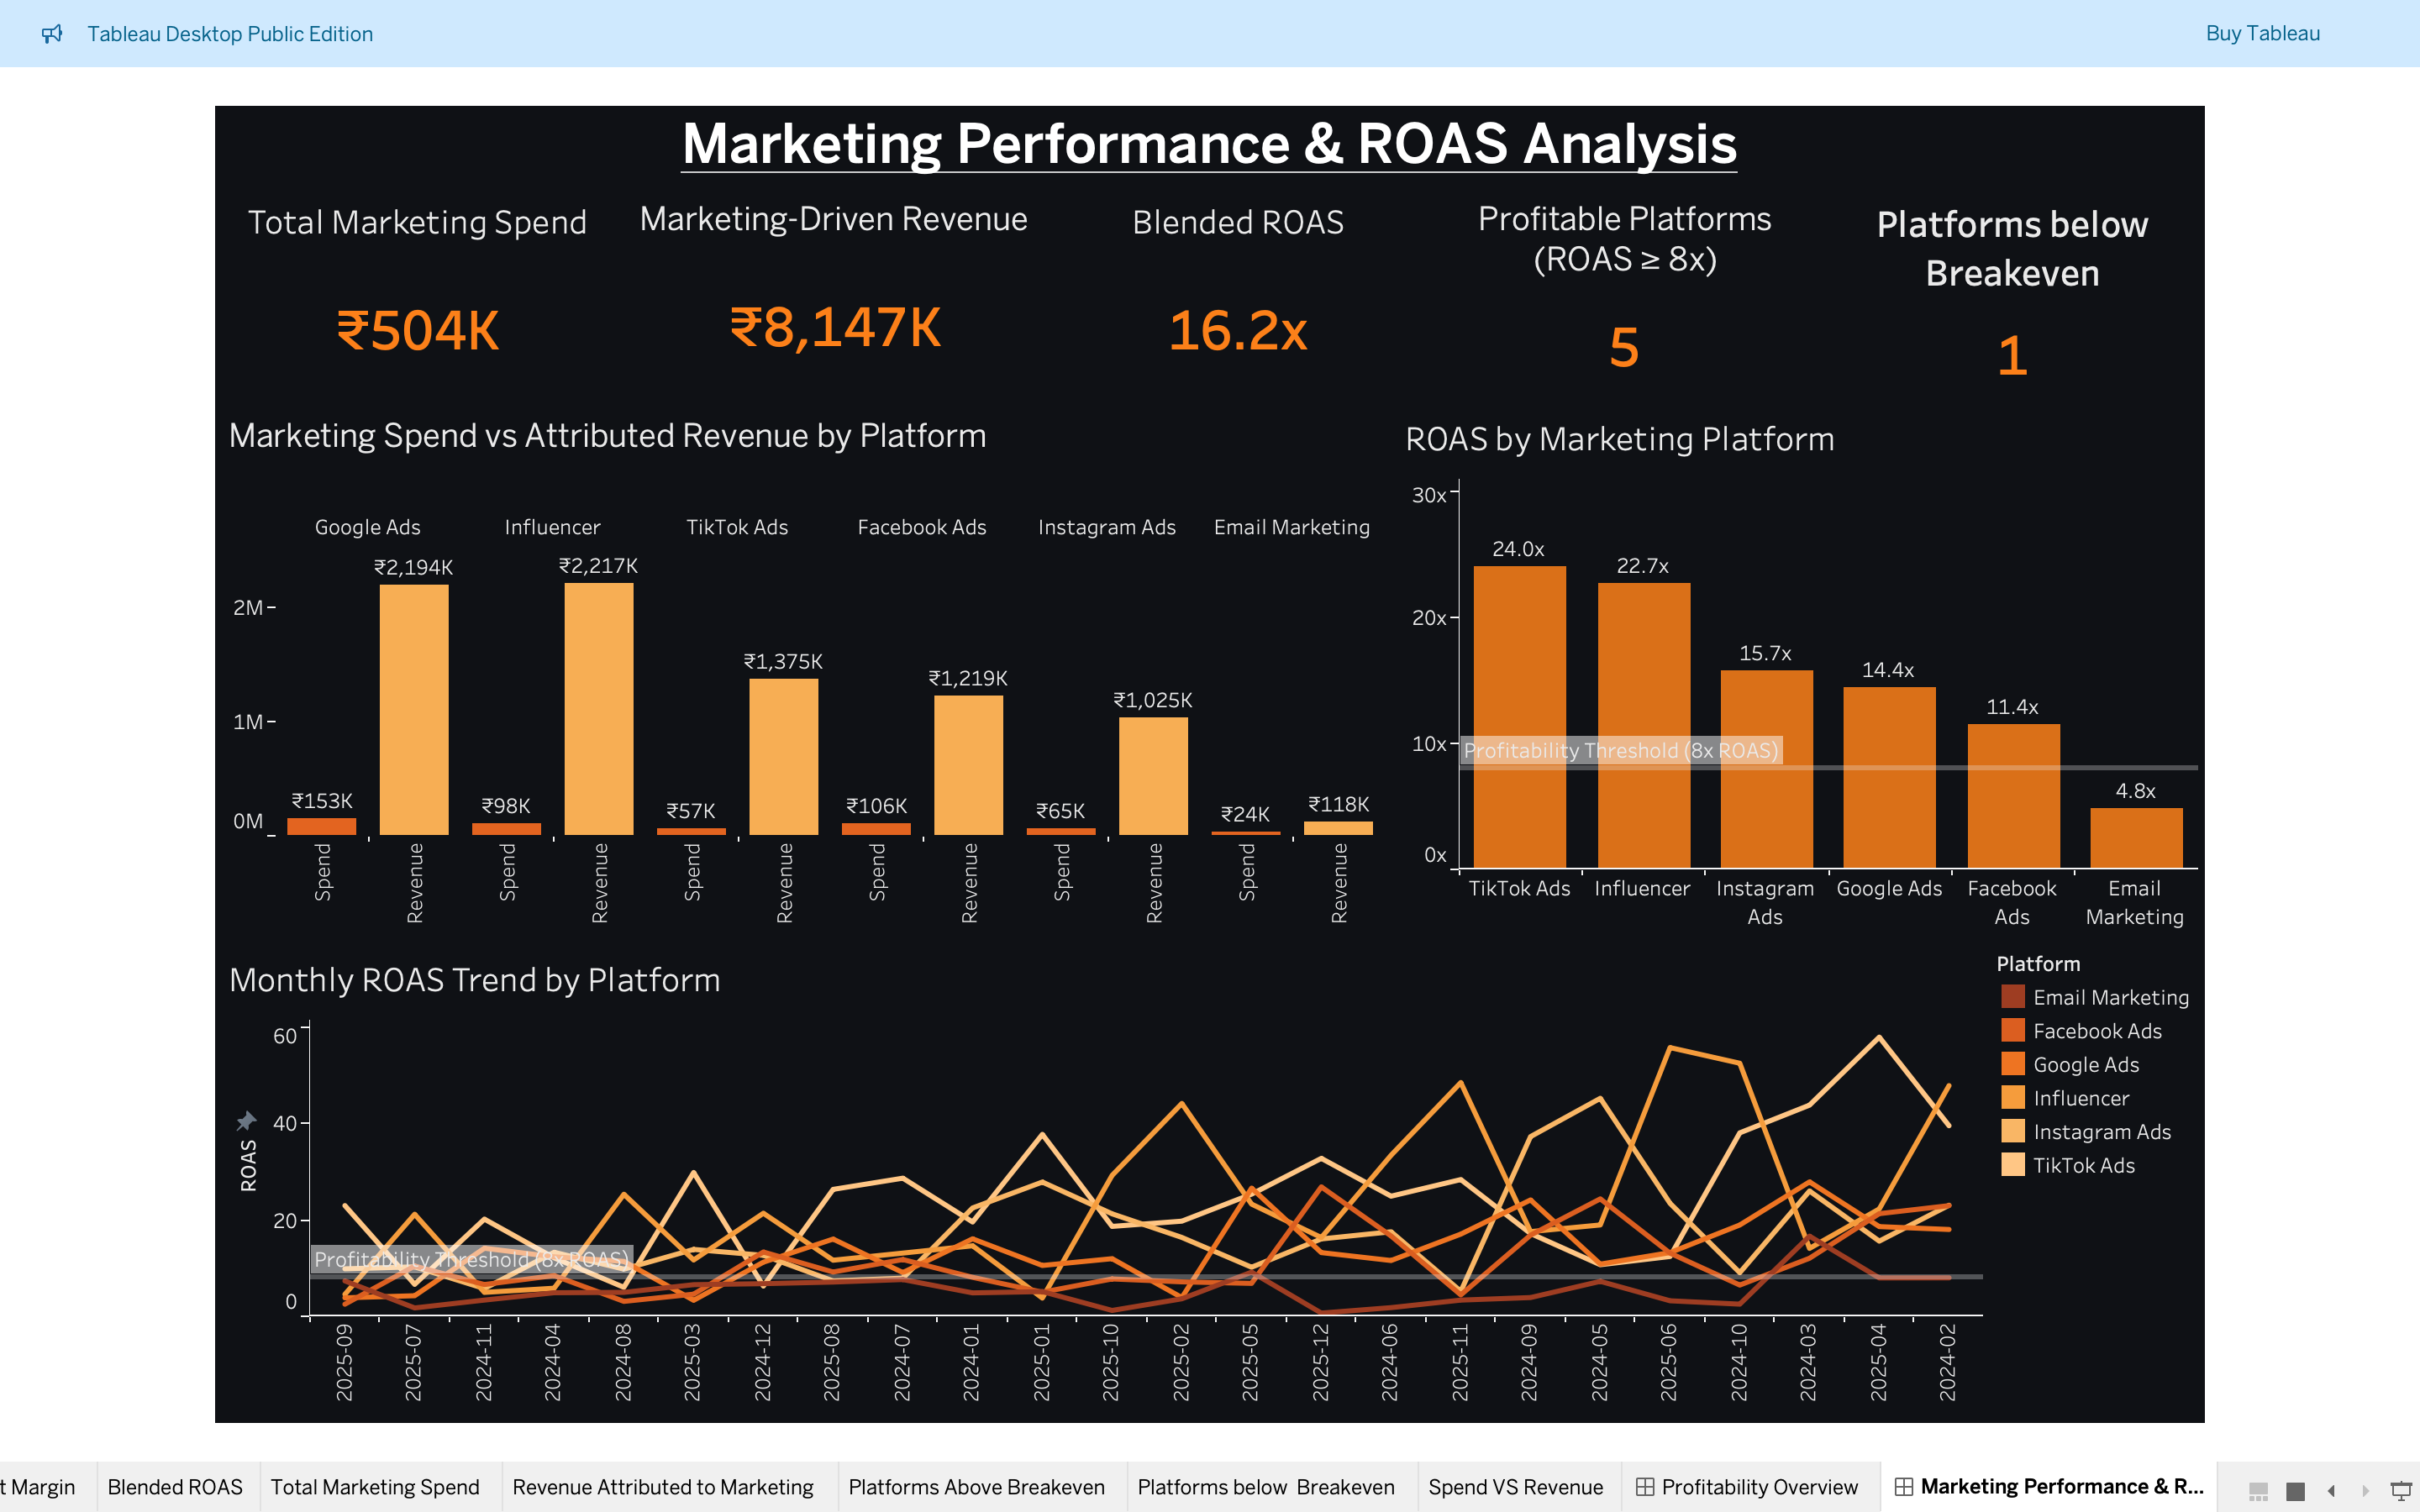

What the dashboard file says about the page in this screenshot:
{"tool":"tableau","page":{"name":"Marketing Performance & ROAS","canvas":[1200,800],"ordinal":0},"visuals":[{"type":"title","box":[8,8,1184,47]},{"type":"worksheet","title":"Total Marketing Spend","mark":"Automatic","box":[8,55,242,129.1]},{"type":"worksheet","title":"Revenue Attributed to Marketing","mark":"Automatic","box":[250,55,253,129.1]},{"type":"worksheet","title":"Blended ROAS","mark":"Automatic","box":[503,55,228,129.1]},{"type":"worksheet","title":"Platforms Above Breakeven","mark":"Text","box":[731,55,233,129.1]},{"type":"worksheet","title":"Platforms below  Breakeven","mark":"Text","box":[964,55,228,129.1]},{"type":"worksheet","title":"Spend VS Revenue","mark":"Automatic","cols":["platform"],"box":[8,184.1,700,321.9]},{"type":"worksheet","title":"ROAS by Marketing Platform","mark":"Bar","rows":["Calculation_1522387285417989"],"cols":["platform"],"box":[708,184.1,484,321.9]},{"type":"worksheet","title":"Monthly ROAS Trend by Platform","mark":"Line","rows":["Calculation_1522387285417989"],"cols":["month"],"box":[8,506,1056,286]},{"type":"legend","title":"Monthly ROAS Trend by Platform","param":"[federated.1h2egtl04tpx0f1dpryto10x4qv2].[none:platform:nk]","box":[1064,506,128,286]}]}

Visuals, with their boxes on the page's 1200x800 design canvas (x1, y1, x2, y2). These are canvas units, not pixel positions in the 2420x1512 screenshot, which may show the page scaled, cropped or inside an application window:
title: l=8, t=8, r=1192, b=55
"Total Marketing Spend" worksheet: l=8, t=55, r=250, b=184
"Revenue Attributed to Marketing" worksheet: l=250, t=55, r=503, b=184
"Blended ROAS" worksheet: l=503, t=55, r=731, b=184
"Platforms Above Breakeven" worksheet (Text marks): l=731, t=55, r=964, b=184
"Platforms below  Breakeven" worksheet (Text marks): l=964, t=55, r=1192, b=184
"Spend VS Revenue" worksheet: l=8, t=184, r=708, b=506
"ROAS by Marketing Platform" worksheet (Bar marks): l=708, t=184, r=1192, b=506
"Monthly ROAS Trend by Platform" worksheet (Line marks): l=8, t=506, r=1064, b=792
"Monthly ROAS Trend by Platform" legend: l=1064, t=506, r=1192, b=792
